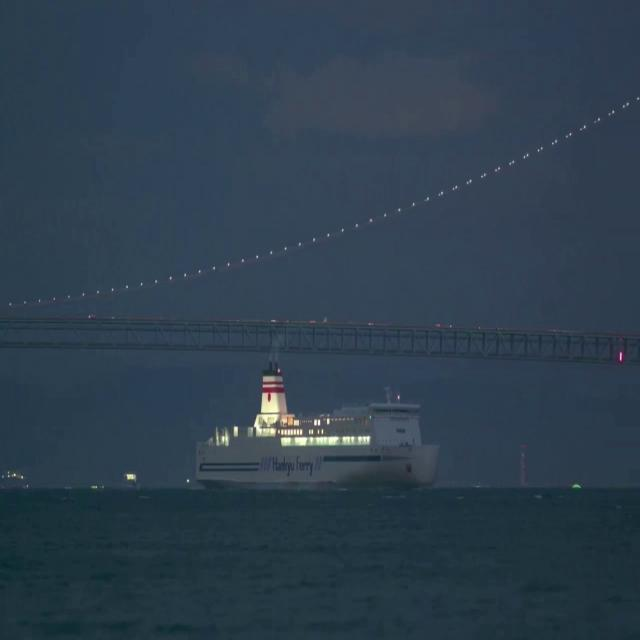OCR: (268, 453, 315, 483)
